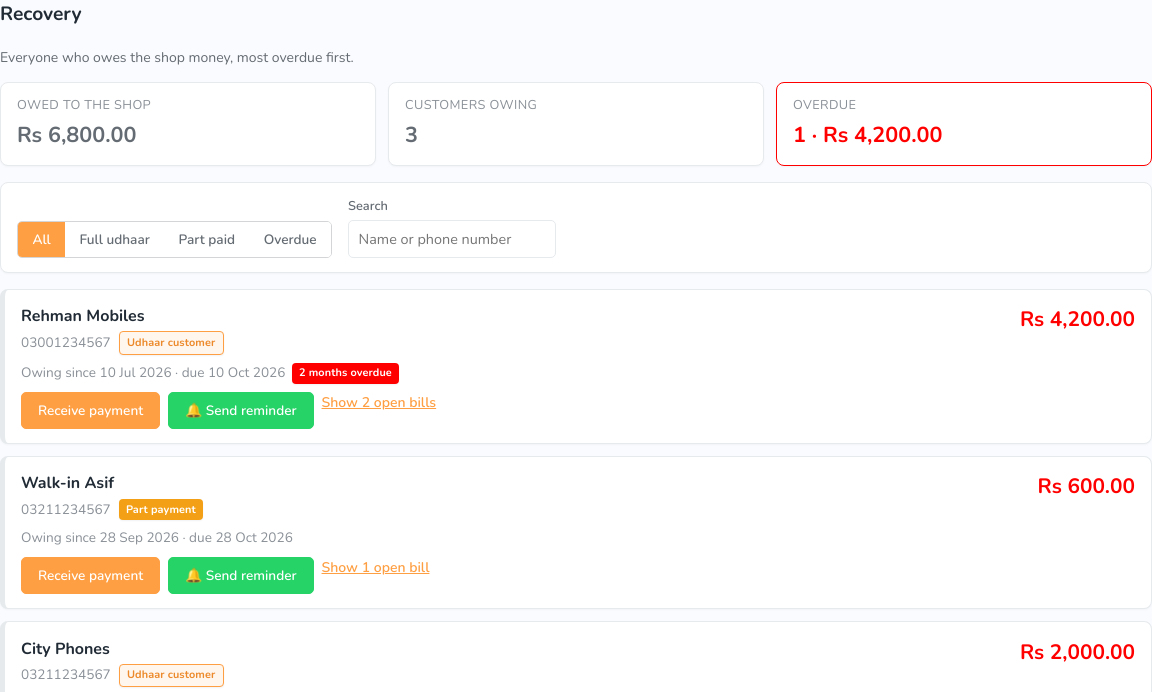
Scenario: the recovery page › shows the bills still open, each as part paid or not paid
Click the button "Show 2 open bills": (379, 402) x1=322 y1=392 x2=436 y2=413
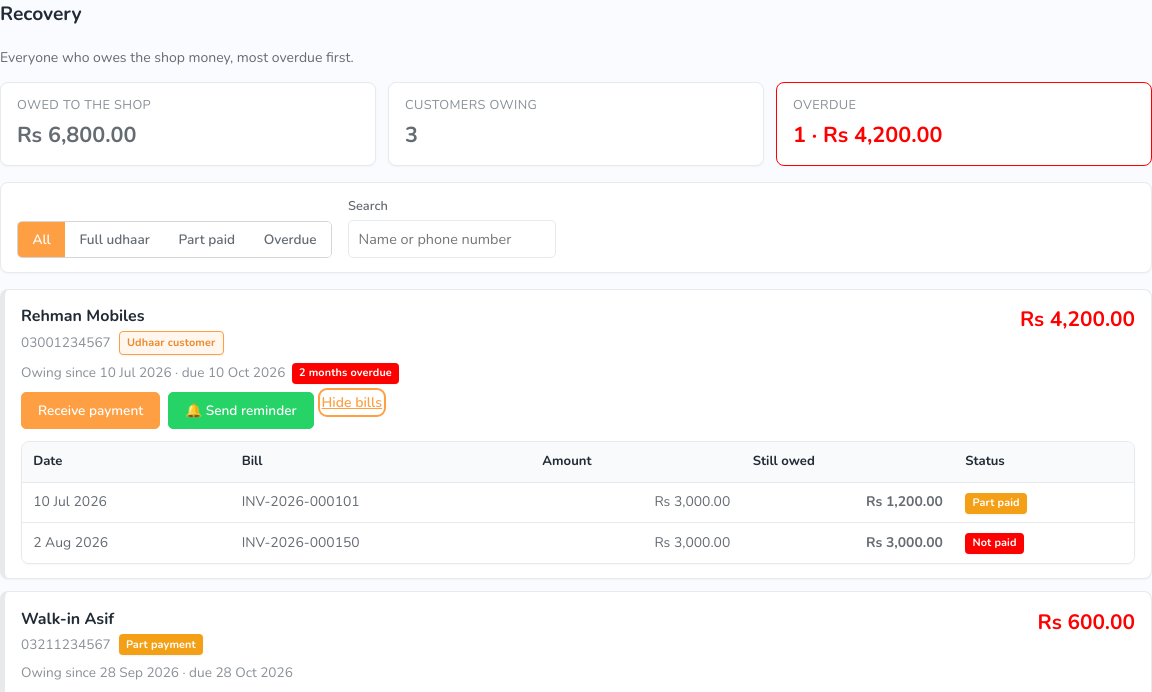
Expected: the text "INV-2026-000101" shows "Rs 1,200.00", x1=866 y1=492 x2=943 y2=511
Expected: the text "Part paid" is shown, x1=965 y1=492 x2=1027 y2=514
Expected: the text "Not paid" is shown, x1=965 y1=533 x2=1024 y2=554
